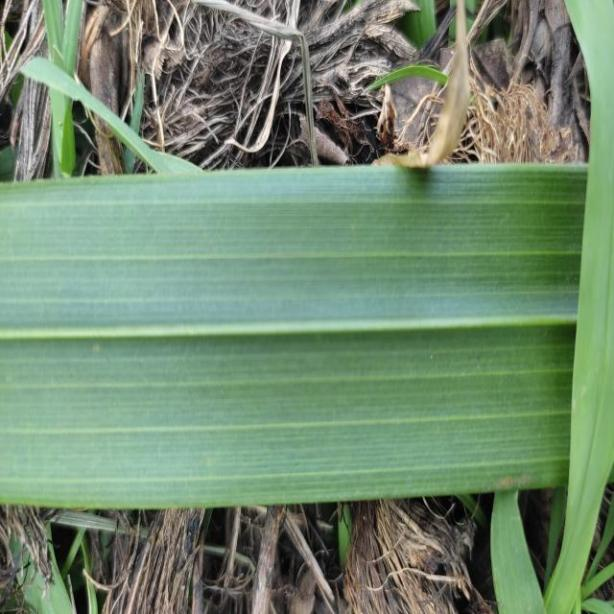Healthy: (0, 168, 614, 513)
